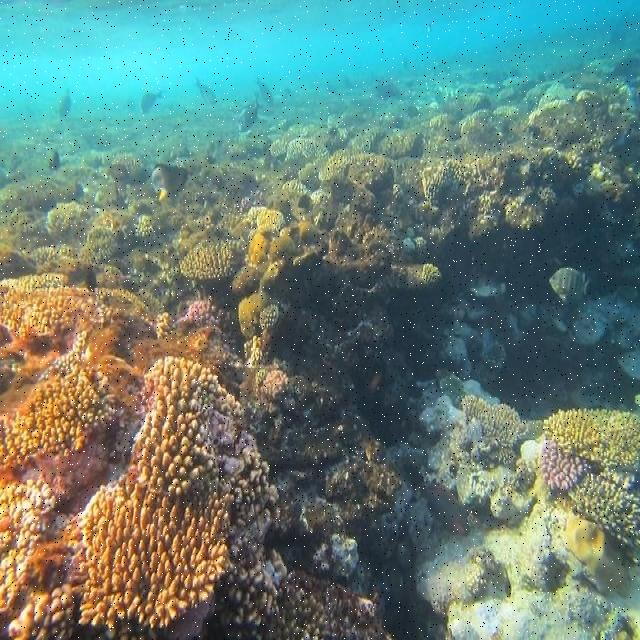fish: (550, 265, 590, 302), (240, 97, 259, 133), (253, 73, 273, 104), (195, 77, 216, 105), (141, 90, 164, 110), (57, 89, 71, 115)
reefs: (0, 5, 639, 640)
